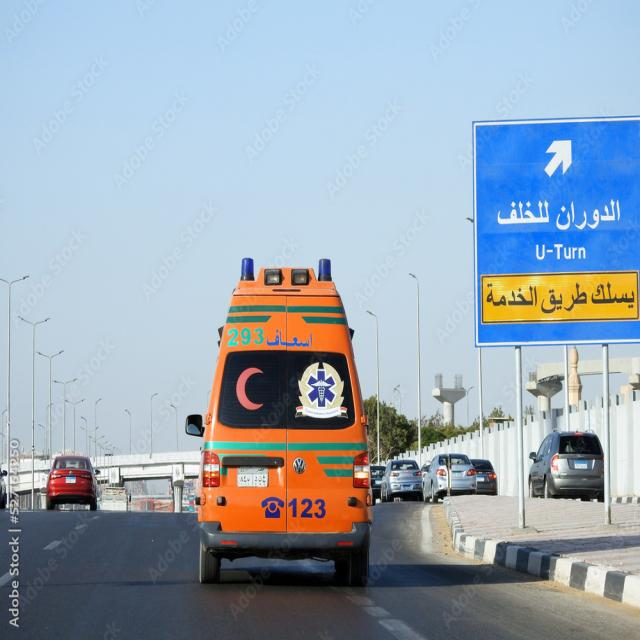Ambulance: (185, 256, 373, 586)
car: (528, 428, 604, 501), (45, 455, 98, 510), (422, 452, 477, 503), (380, 458, 422, 502), (469, 458, 496, 494), (370, 464, 386, 497)
